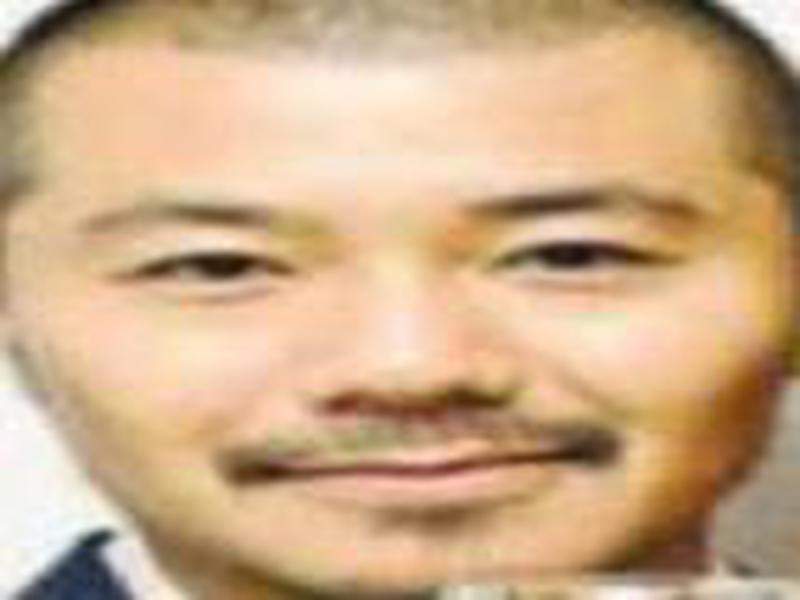without_mask: (23, 44, 774, 585)
